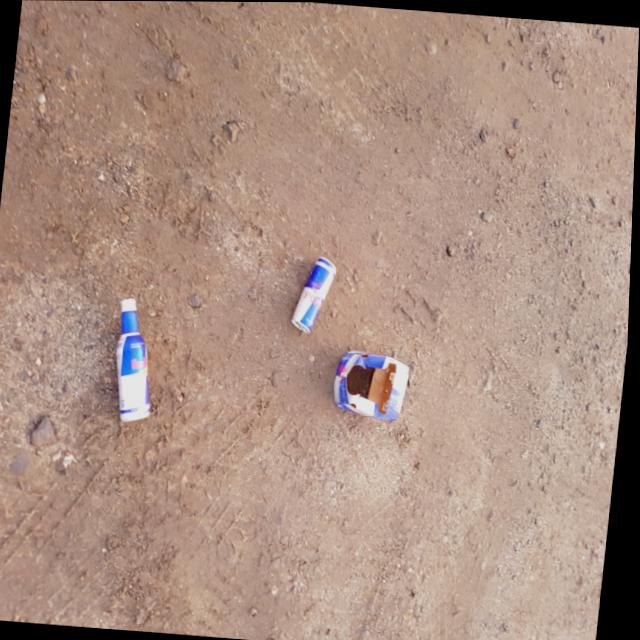Can-Metal: (282, 239, 349, 347)
Cardboard: (325, 328, 425, 441)
Plastic: (102, 281, 177, 432)
